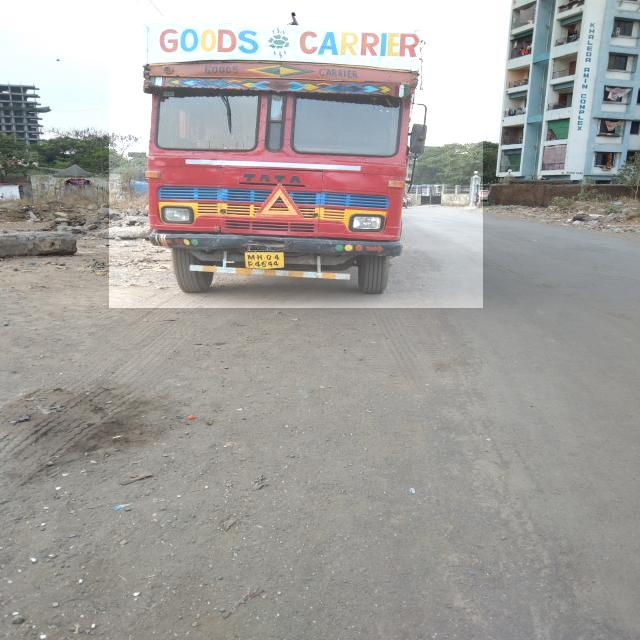Truck: (110, 16, 483, 308)
